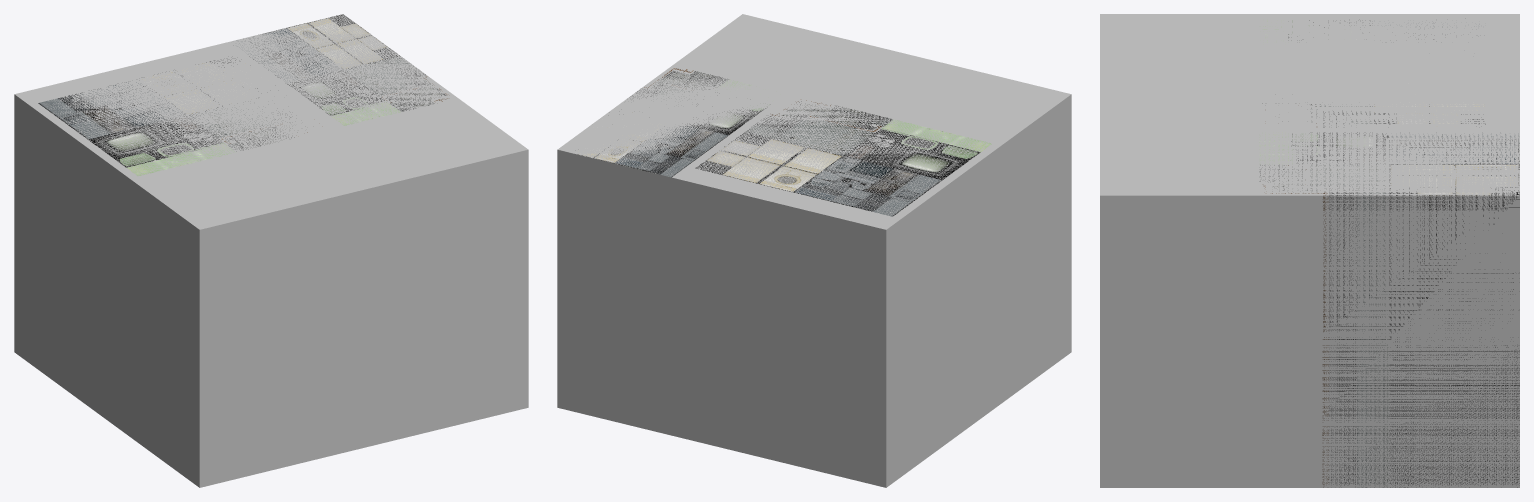
The model's file is computer.DAE.
3 views of the same model, side by side, from view 1: azimuth 30°, elevation 25°; view 2: azimuth 150°, elevation 25°; view 3: azimuth 270°, elevation 25° (orthographic). The views are drawn at different scales.
Visible parts, largest first — view 1: bounds, colbox-2, colbox-1; view 2: bounds, colbox-2, colbox-1; view 3: bounds, colbox-1.
Part boxes in pixels (left/top/right/bottom): bounds: left=14, top=14, right=528, bottom=487; colbox-2: left=38, top=60, right=307, bottom=175; colbox-1: left=236, top=14, right=447, bottom=125; bounds: left=557, top=14, right=1071, bottom=487; colbox-2: left=695, top=100, right=991, bottom=216; colbox-1: left=578, top=68, right=769, bottom=177; bounds: left=1100, top=14, right=1519, bottom=487; colbox-1: left=1259, top=132, right=1519, bottom=487.
Size of the model in its own units: 103 by 100 by 77.
